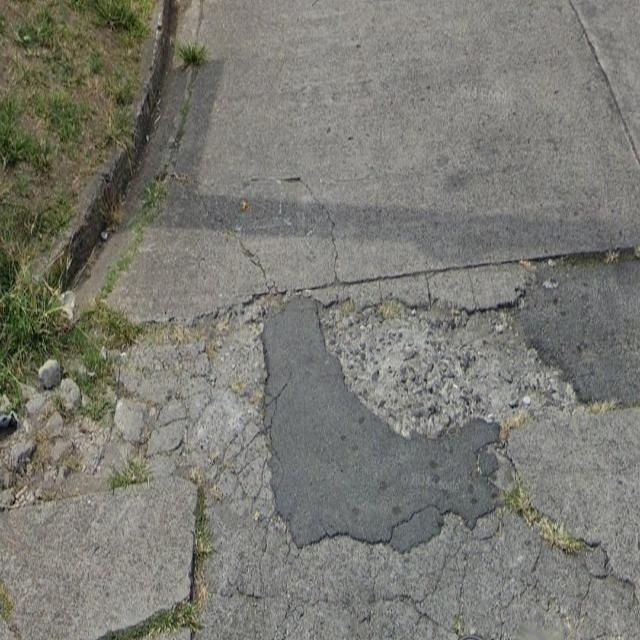pothole: (42, 158, 640, 640)
